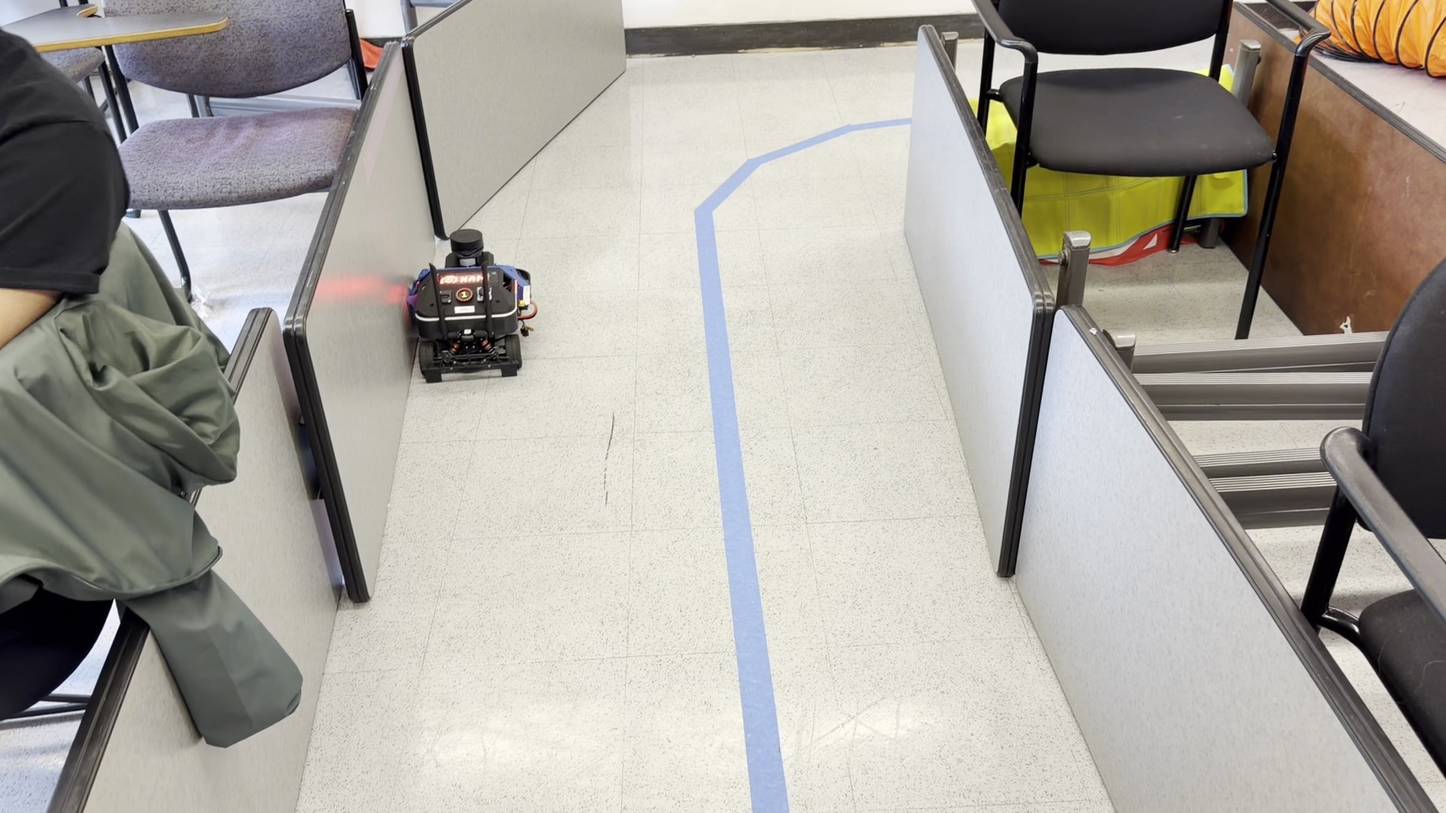racecar: (408, 229, 537, 380)
